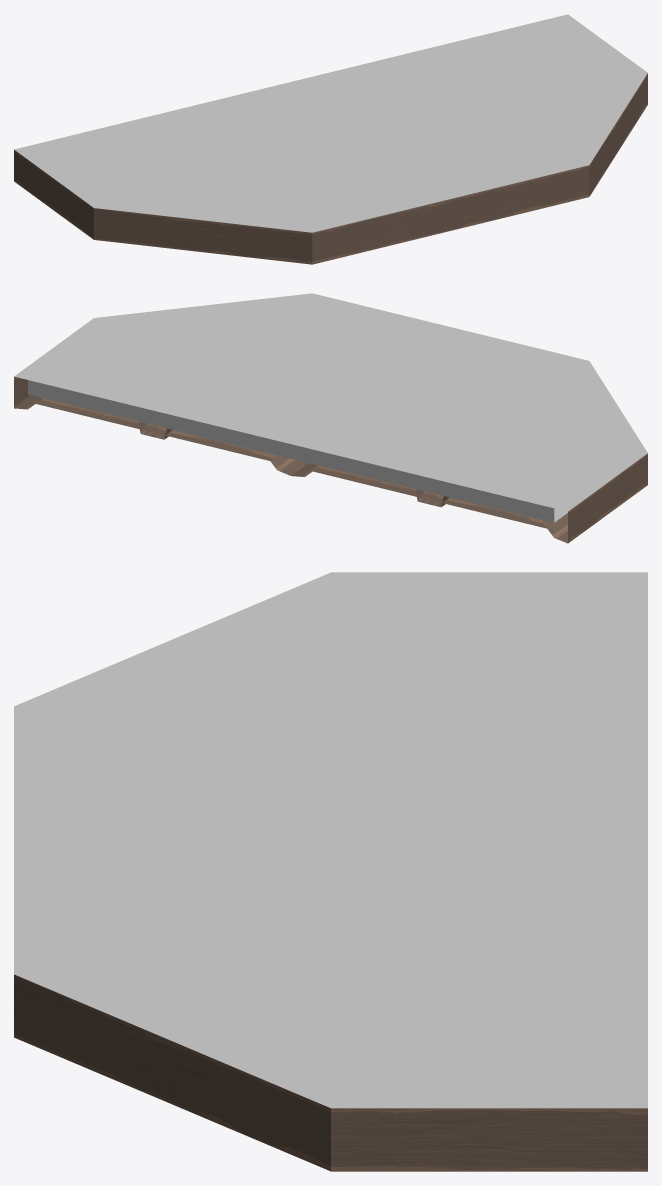
The model's file is SM_Ceiling_OctagonalWooden.fbx.
The picture shows the model from 3 angles, top to bottom: view 1: azimuth 30°, elevation 25°; view 2: azimuth 150°, elevation 25°; view 3: azimuth 270°, elevation 25°; orthographic projection. The views are drawn at different scales.
Visible parts, largest first — view 1: SM_Ceiling_OctagonalWooden; view 2: SM_Ceiling_OctagonalWooden; view 3: SM_Ceiling_OctagonalWooden.
Boxes of the visible parts, bbox=[...] form: SM_Ceiling_OctagonalWooden: bbox=[14, 14, 647, 264]; SM_Ceiling_OctagonalWooden: bbox=[14, 293, 647, 543]; SM_Ceiling_OctagonalWooden: bbox=[14, 572, 647, 1171].
Size of the model in its own units: 1000 by 500 by 55.
